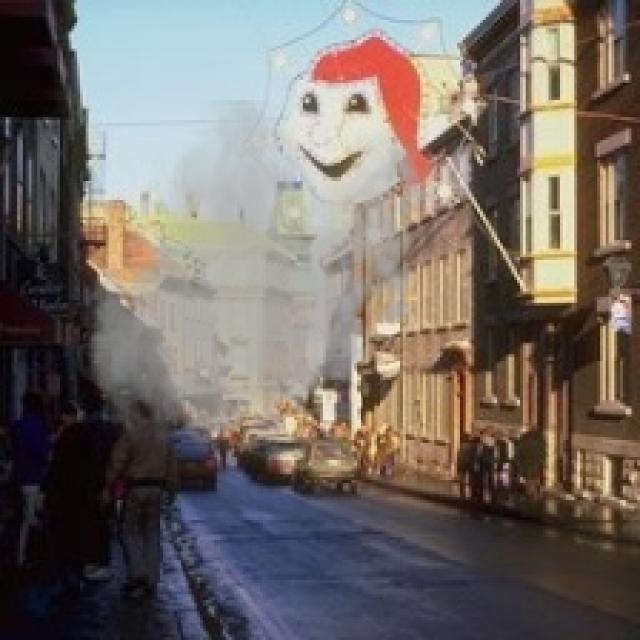smoke: (80, 100, 434, 460)
